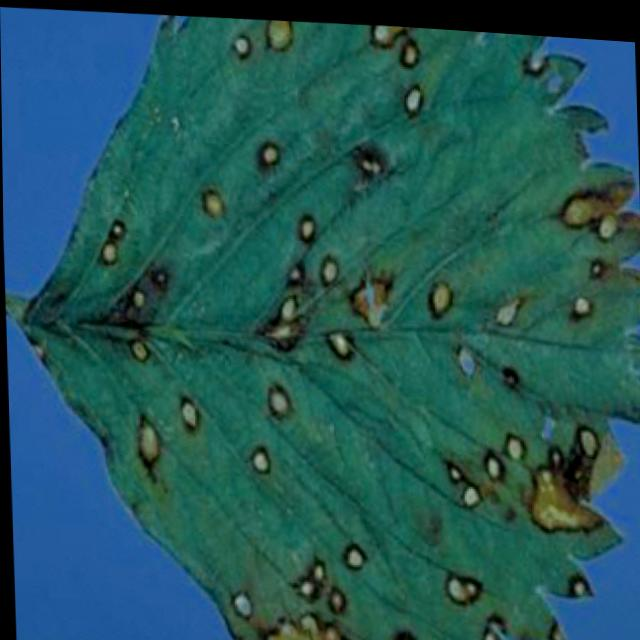Leaf Spot: (9, 11, 640, 640)
